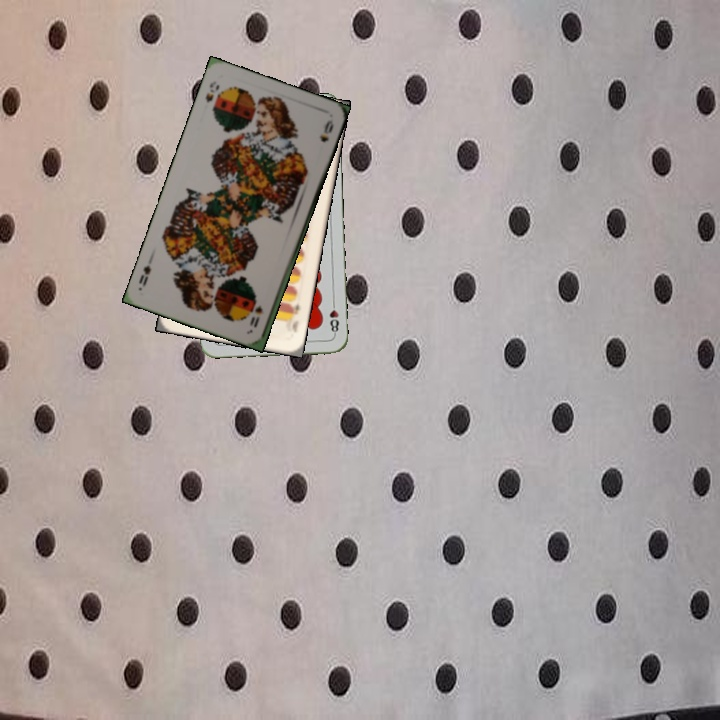E10: (287, 300, 303, 335)
H8: (326, 297, 341, 337)
SO: (201, 77, 222, 105), (249, 301, 265, 330)
